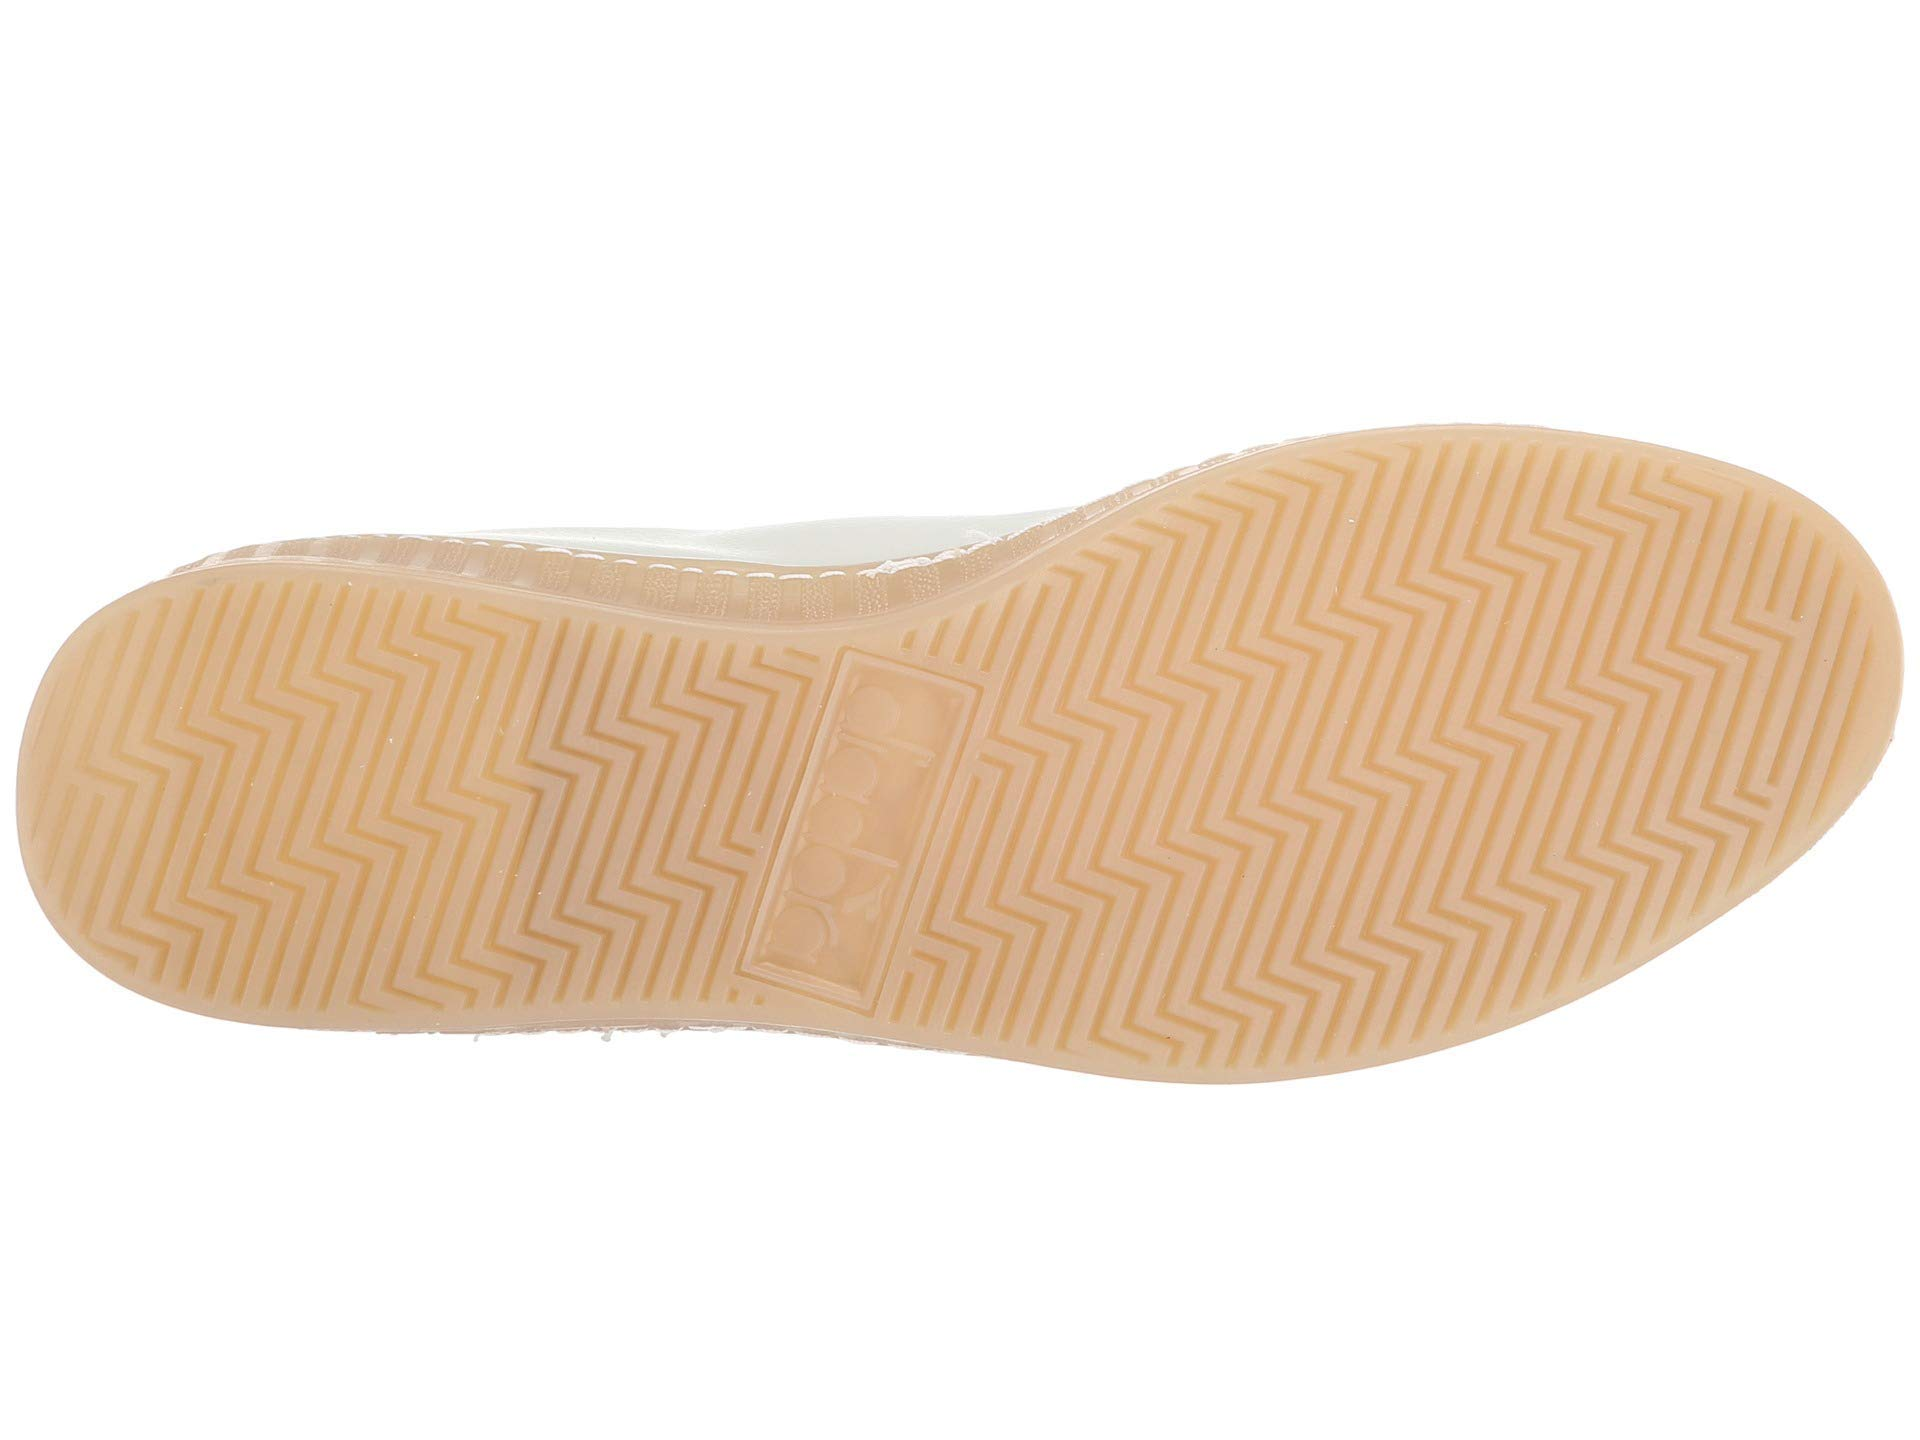chevron: (1188, 532, 1661, 956)
